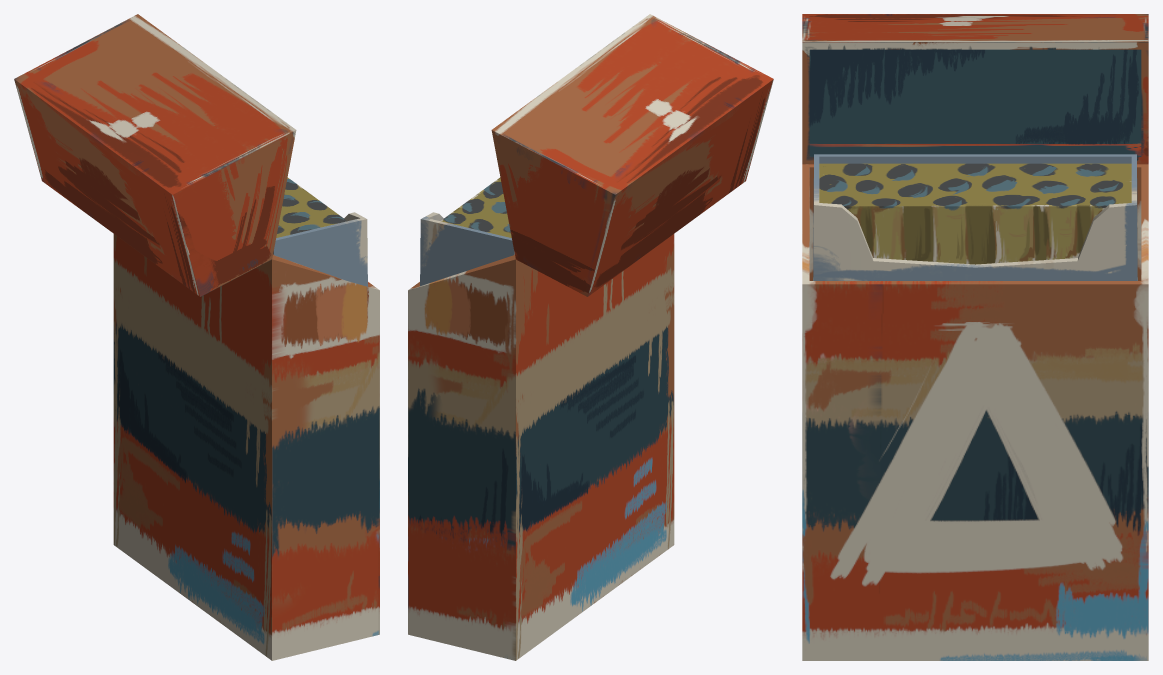
Rendered from paczka_fajek.fbx.
The picture shows the model from 3 angles, left to right: view 1: azimuth 30°, elevation 25°; view 2: azimuth 150°, elevation 25°; view 3: azimuth 270°, elevation 25°; orthographic projection. The views are drawn at different scales.
Visible parts, largest first — view 1: opakowanie_faj, zamkniecie_faj, wnetrze_faj; view 2: opakowanie_faj, zamkniecie_faj, wnetrze_faj; view 3: opakowanie_faj, zamkniecie_faj, wnetrze_faj.
Part boxes in pixels (box(x1,y1,x2,y2)): opakowanie_faj: box(113, 234, 379, 660); zamkniecie_faj: box(14, 14, 296, 296); wnetrze_faj: box(273, 177, 367, 286); opakowanie_faj: box(408, 234, 674, 660); zamkniecie_faj: box(491, 14, 773, 296); wnetrze_faj: box(420, 177, 514, 286); opakowanie_faj: box(802, 164, 1148, 660); zamkniecie_faj: box(802, 14, 1148, 164); wnetrze_faj: box(813, 154, 1137, 280).
Bounding box in the file's own units: 3.49 × 8.43 × 4.61.
